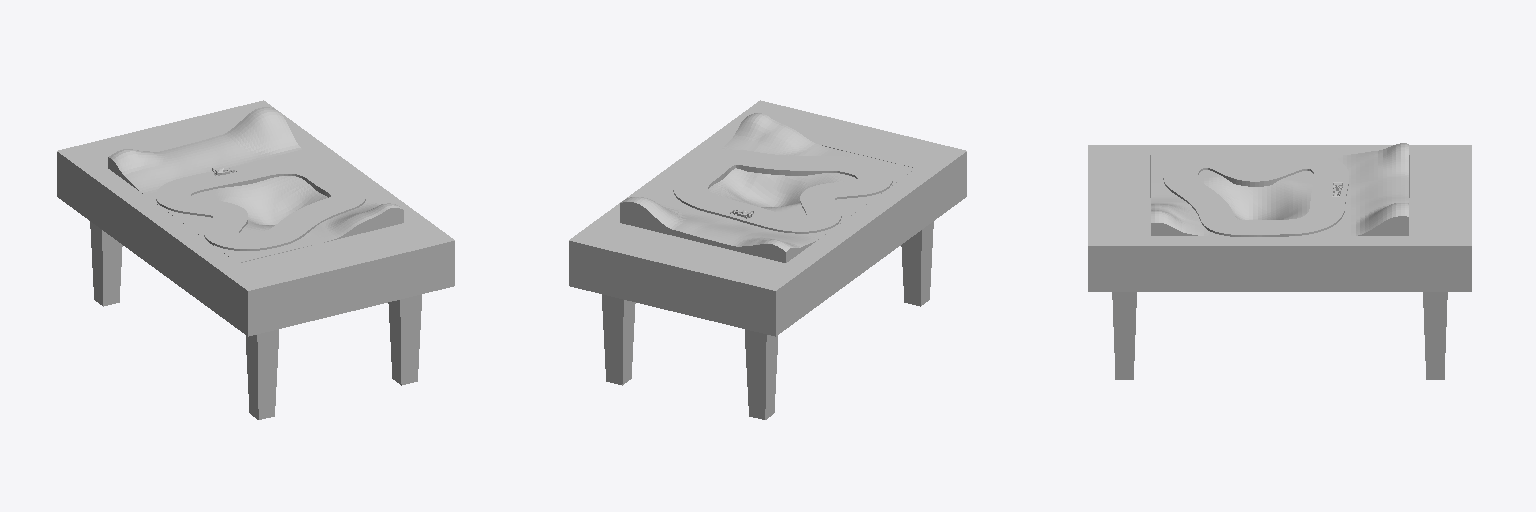
Rendered from NewestTisch1.obj.
The picture shows the model from 3 angles: view 1: azimuth 30°, elevation 25°; view 2: azimuth 150°, elevation 25°; view 3: azimuth 270°, elevation 25°; orthographic projection.
Visible parts, largest first — view 1: Tischplatte_wood_table_001, Landschaft_aerial_grass_rock, off, Bein1_wood_table_001, Bein4_wood_table_001.003, Bein3_wood_table_001.002; view 2: Tischplatte_wood_table_001, Landschaft_aerial_grass_rock, off, Bein2_wood_table_001.001, Bein3_wood_table_001.002, Bein4_wood_table_001.003; view 3: Tischplatte_wood_table_001, Landschaft_aerial_grass_rock, off, Bein1_wood_table_001, Bein2_wood_table_001.001.
Boxes of the visible parts, box(x1,y1,x2,y2) form: Tischplatte_wood_table_001: box(57, 100, 454, 336); Landschaft_aerial_grass_rock: box(108, 107, 403, 262); off: box(156, 159, 365, 250); Bein1_wood_table_001: box(388, 294, 421, 385); Bein4_wood_table_001.003: box(246, 329, 278, 419); Bein3_wood_table_001.002: box(90, 221, 122, 306); Tischplatte_wood_table_001: box(569, 100, 966, 336); Landschaft_aerial_grass_rock: box(620, 113, 915, 262); off: box(673, 150, 892, 233); Bein2_wood_table_001.001: box(602, 294, 635, 385); Bein3_wood_table_001.002: box(745, 329, 777, 419); Bein4_wood_table_001.003: box(901, 221, 933, 306); Tischplatte_wood_table_001: box(1088, 145, 1471, 291); Landschaft_aerial_grass_rock: box(1151, 143, 1408, 235); off: box(1163, 153, 1348, 236); Bein1_wood_table_001: box(1112, 292, 1136, 379); Bein2_wood_table_001.001: box(1423, 292, 1447, 379).
Size of the model in its own units: 5 by 3.91 by 8.